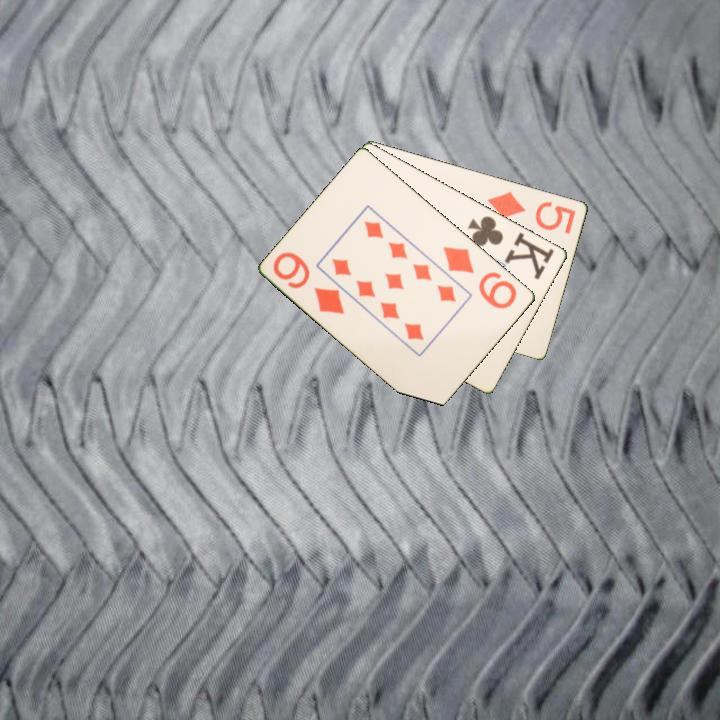5d: (484, 187, 579, 236)
9d: (440, 243, 520, 312), (269, 248, 348, 317)
Kc: (464, 212, 557, 282)
